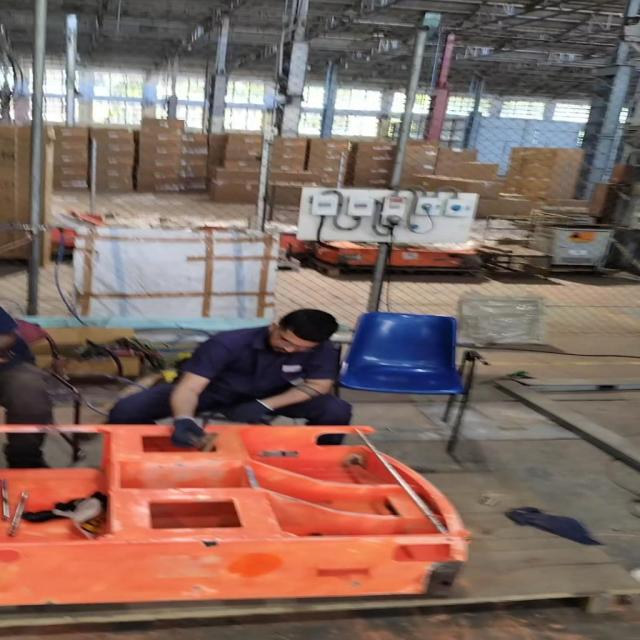Gloves-Detection: (170, 421, 210, 446), (240, 398, 265, 419)
